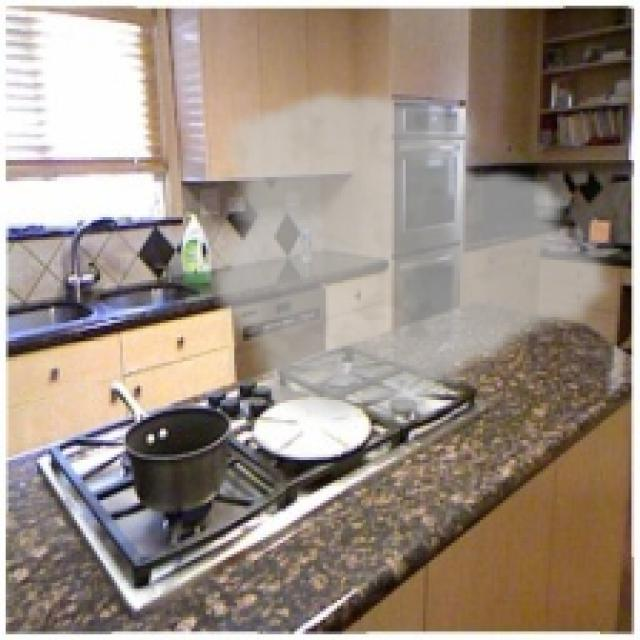smoke: (208, 86, 623, 431)
